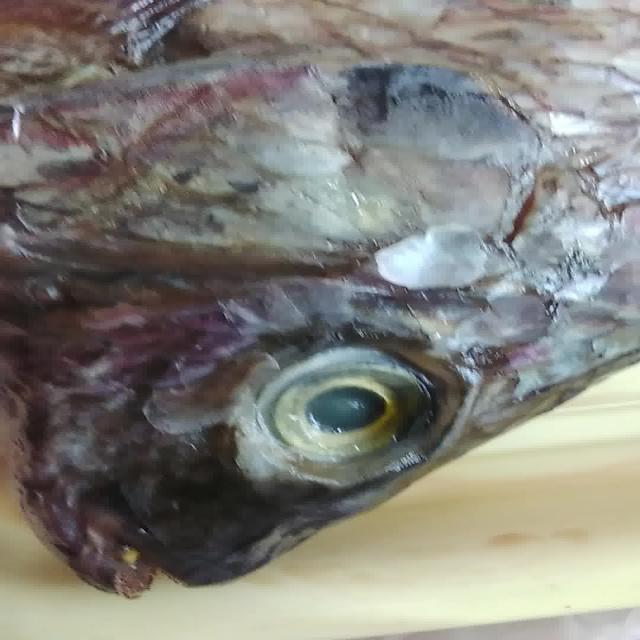Non-Fresh: (223, 326, 468, 514)
